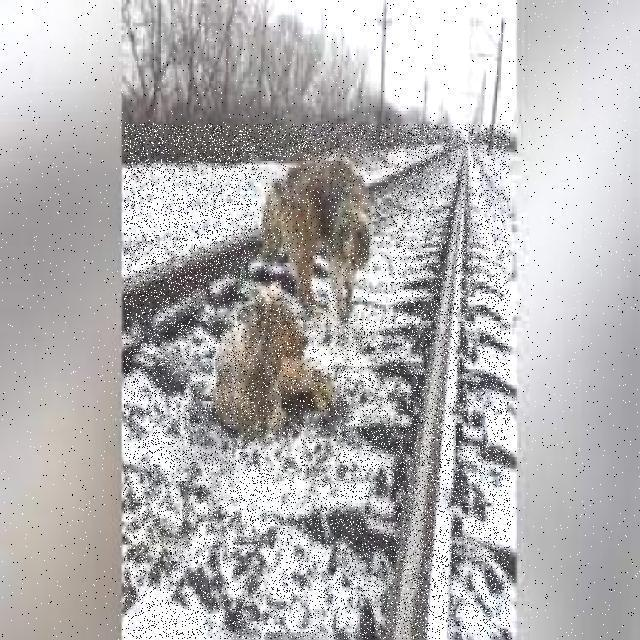danger: (252, 157, 393, 318), (198, 290, 337, 452)
rail: (124, 124, 510, 640)
